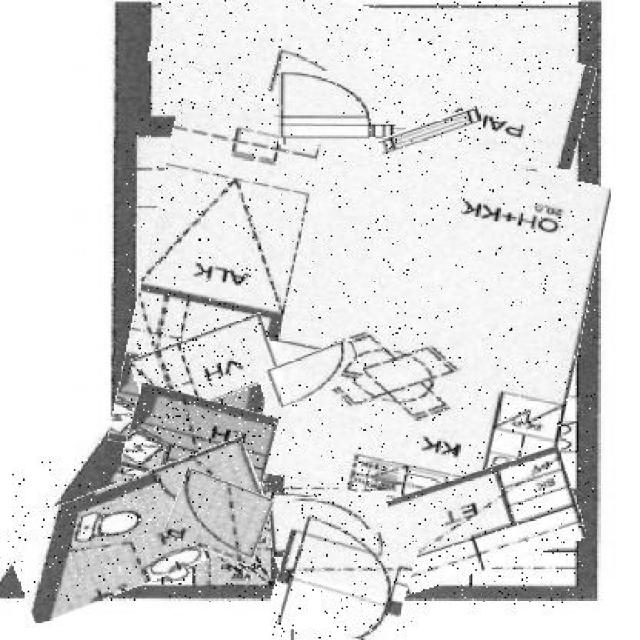door: (271, 517, 412, 640), (168, 476, 269, 558), (270, 492, 388, 556), (278, 70, 369, 144), (259, 348, 363, 403)
window: (379, 114, 483, 152)
zone: (123, 119, 595, 508), (151, 0, 594, 142), (274, 468, 583, 608), (5, 457, 272, 603), (124, 391, 276, 495), (134, 323, 278, 411)
